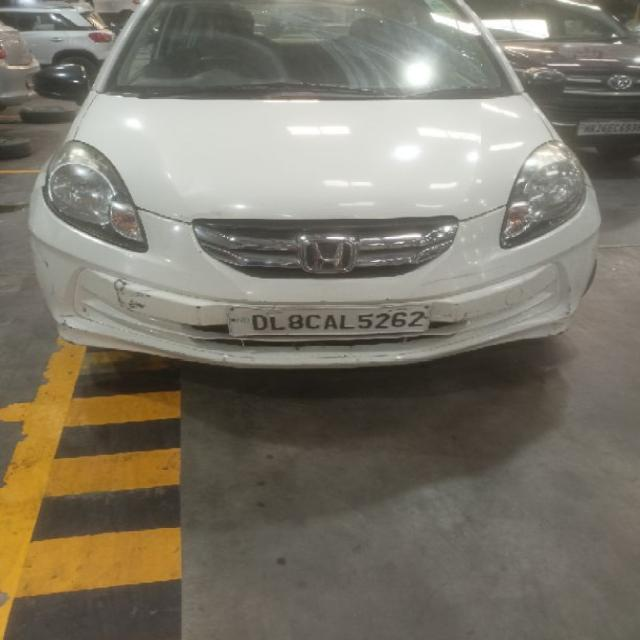license_plate: (225, 304, 432, 338), (574, 117, 639, 136)
